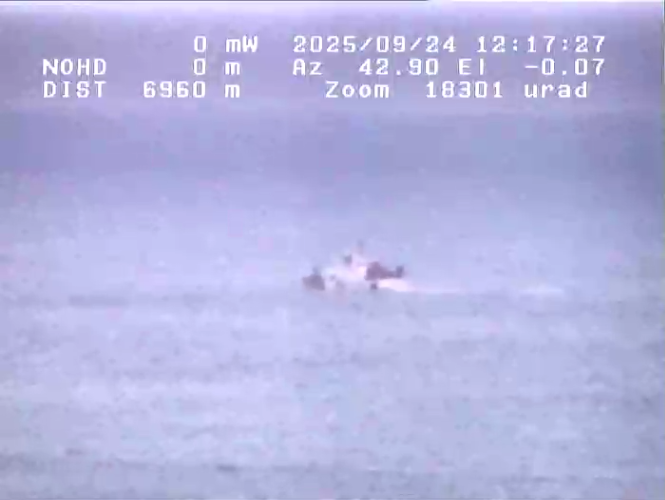PATROL_VESSEL: (277, 227, 433, 314)
